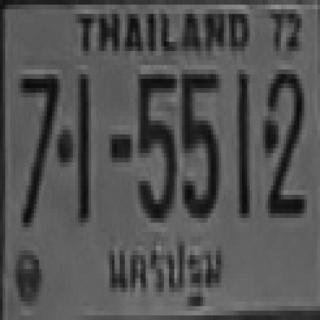N01: (75, 72, 88, 220), (234, 70, 247, 213)
N02: (265, 69, 307, 213)
N05: (180, 72, 220, 216), (138, 72, 176, 221)
N07: (18, 70, 57, 222)
P28: (98, 228, 226, 315)
